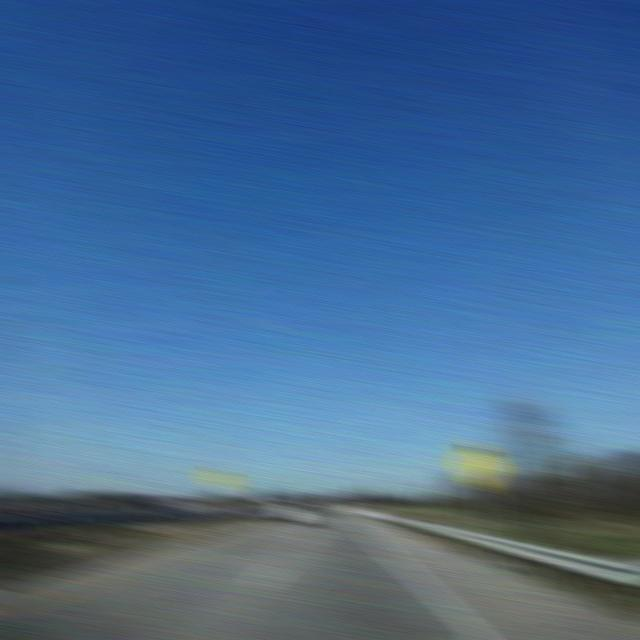speedLimit60: (465, 454, 494, 480)
